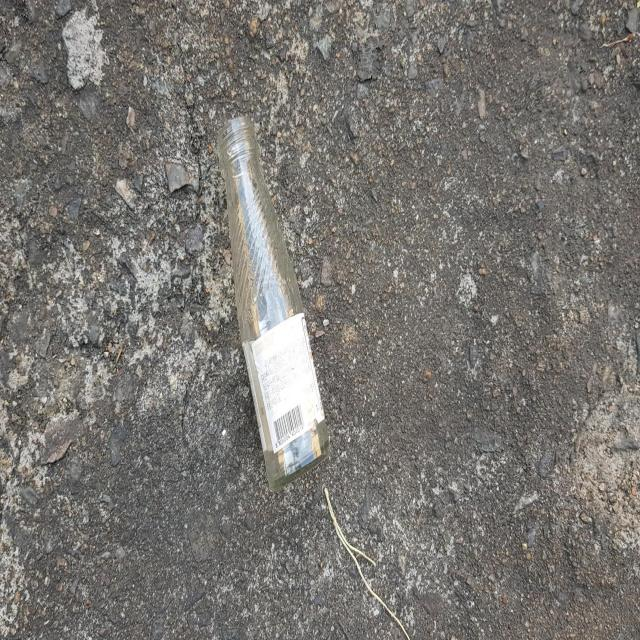glass: (217, 116, 330, 489)
